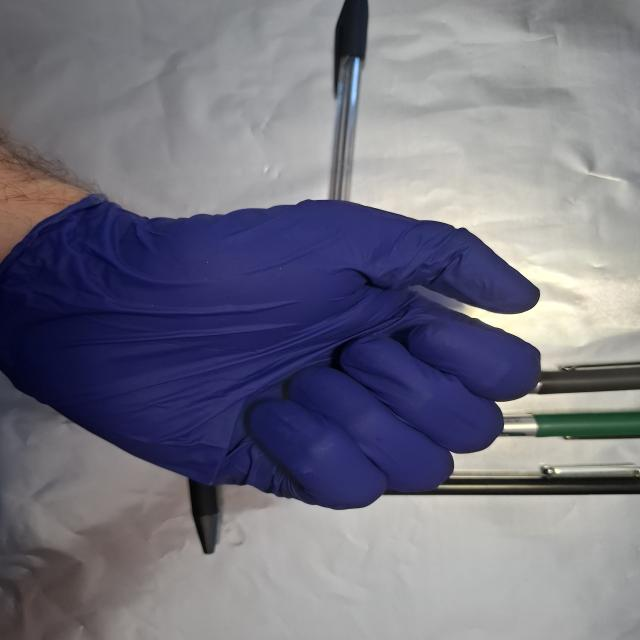glove_on: (3, 188, 546, 514)
